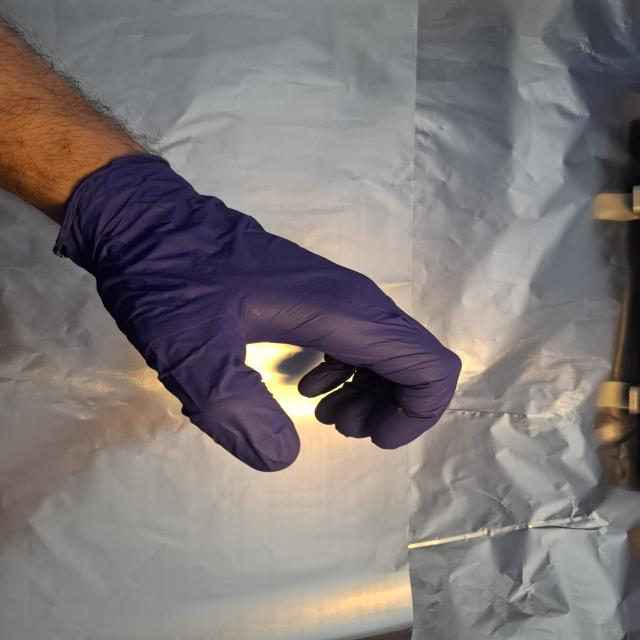glove_on: (55, 153, 466, 474)
